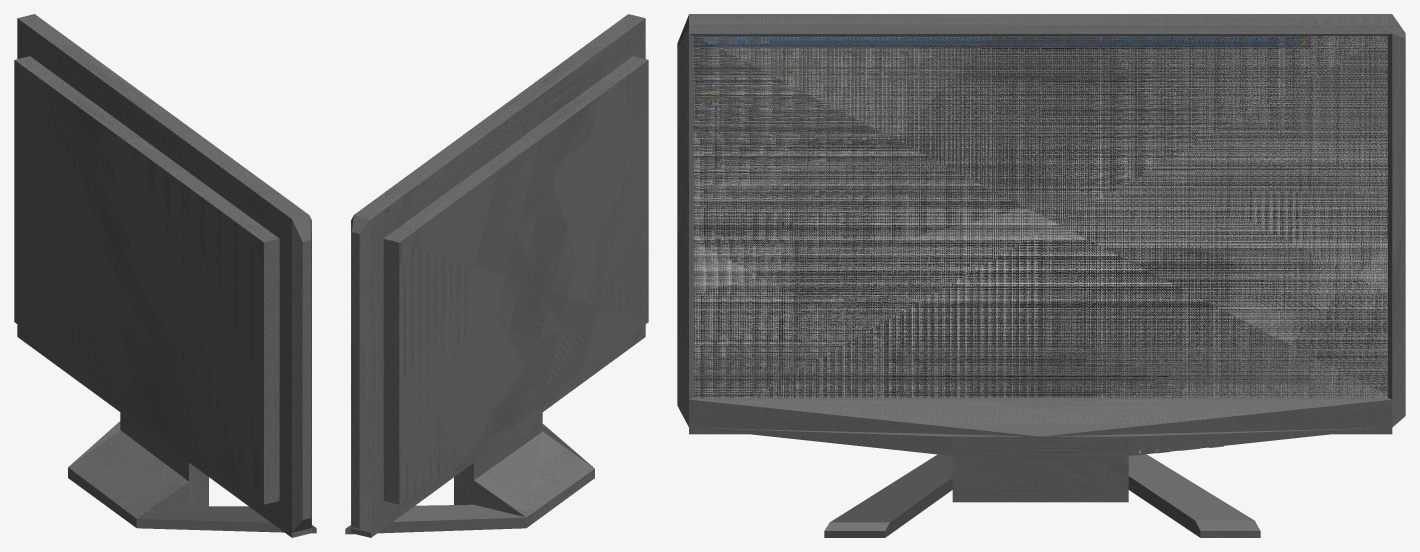
3 renders of one model, left to right at view 1: azimuth 30°, elevation 25°; view 2: azimuth 150°, elevation 25°; view 3: azimuth 270°, elevation 25°, orthographic. The views are drawn at different scales.
Visible parts, largest first — view 1: group_1 (×4), group_0; view 2: group_1 (×4); view 3: group_1 (×7), image_0, group_0.
Part boxes in pixels (bbox=[...]): group_1 (×4): bbox=[14, 14, 316, 537]; group_0: bbox=[292, 215, 311, 532]; group_1 (×4): bbox=[345, 14, 648, 537]; group_1 (×7): bbox=[689, 14, 1405, 537]; image_0: bbox=[693, 36, 1387, 397]; group_0: bbox=[677, 15, 688, 426].
Bounding box in the file's own units: 43.03 × 164 × 118.
6 materials, 1 textured.
